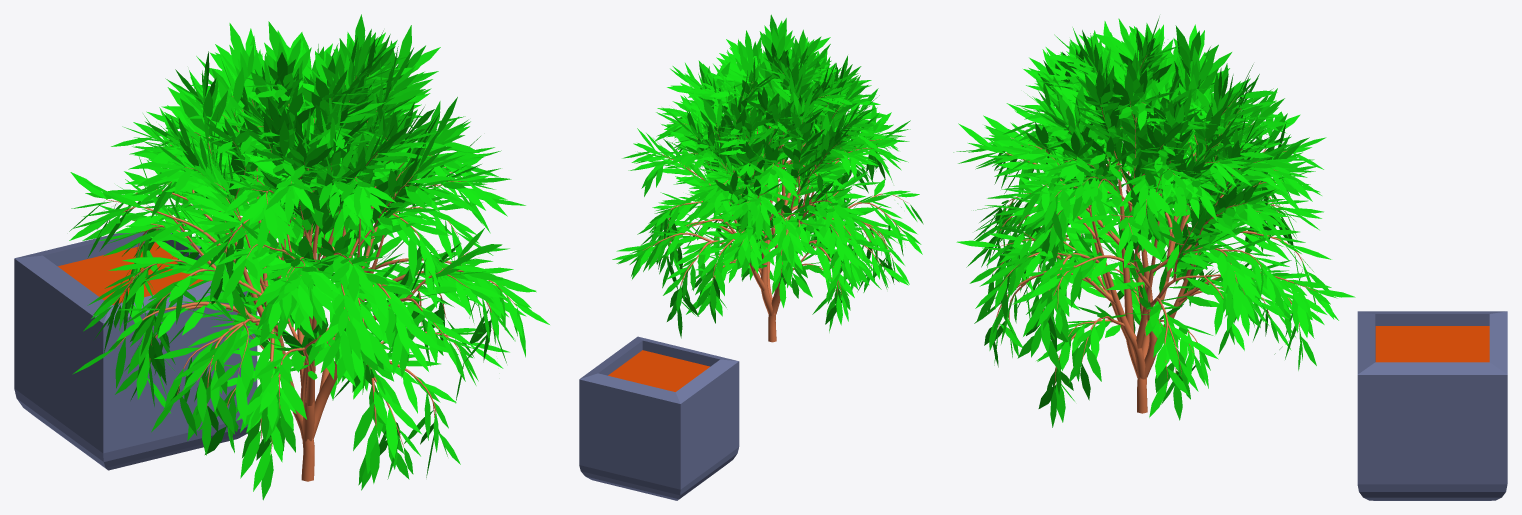
File: Plant and pot.fbx
3 views of the same model, side by side, from view 1: azimuth 30°, elevation 25°; view 2: azimuth 150°, elevation 25°; view 3: azimuth 270°, elevation 25° (orthographic). The views are drawn at different scales.
Visible parts, largest first — view 1: leaves, Cube, tree; view 2: leaves, Cube, tree; view 3: leaves, Cube, tree.
Boxes of the visible parts, x1,y1,x2,y2 form: leaves: (69, 14, 549, 500); Cube: (14, 228, 257, 470); tree: (106, 76, 516, 481); leaves: (612, 14, 923, 338); Cube: (579, 336, 739, 500); tree: (643, 73, 909, 342); leaves: (953, 16, 1355, 427); Cube: (1357, 311, 1507, 500); tree: (993, 55, 1318, 413).
Bounding box in the file's own units: 240 × 311 × 341.
